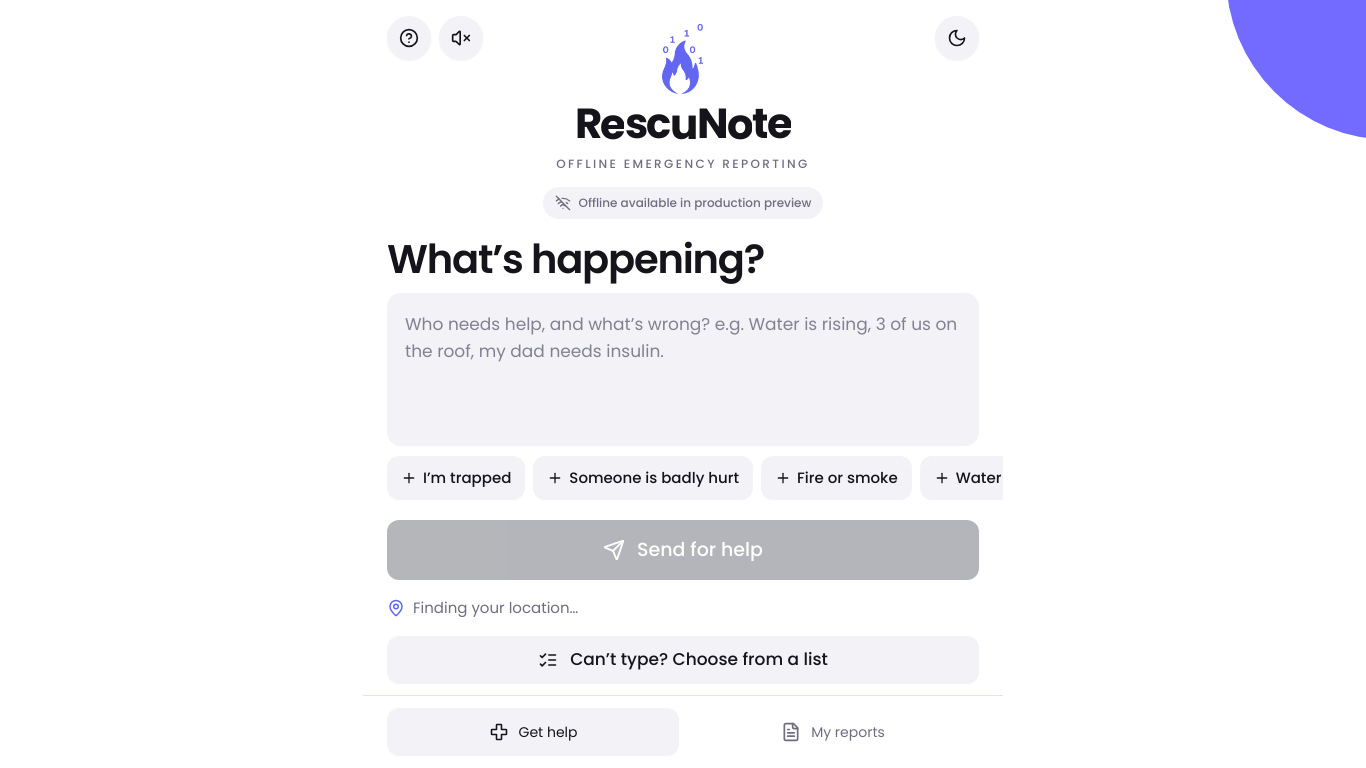
automatically loads the local model and analyzes with it
The width and height of the screenshot is (1366, 768).
Type "Example smoke report" into the text box named "What’s happening? Who needs help?".
click(683, 369); type("Example smoke report")  # box 387,293 -> 979,446
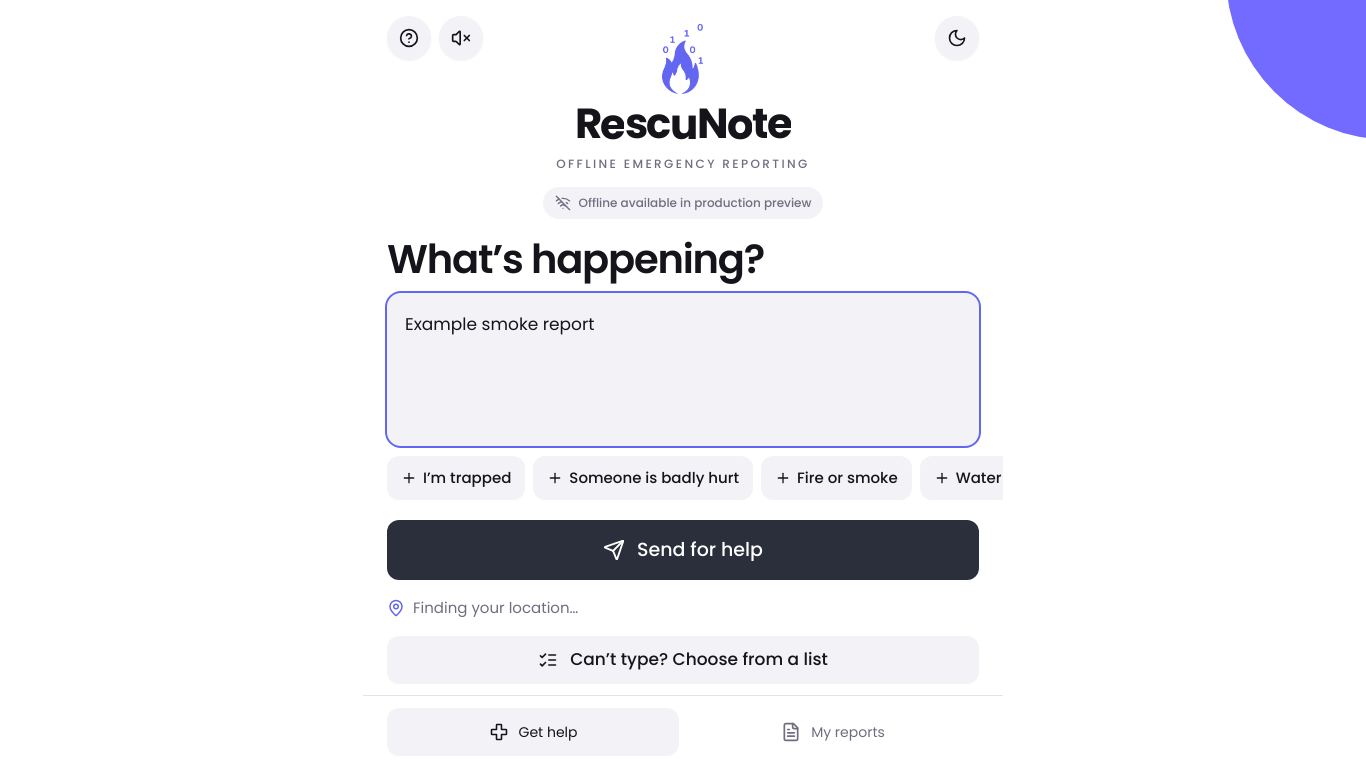
Click the button "Send for help".
click(683, 550)  # box 387,520 -> 979,580
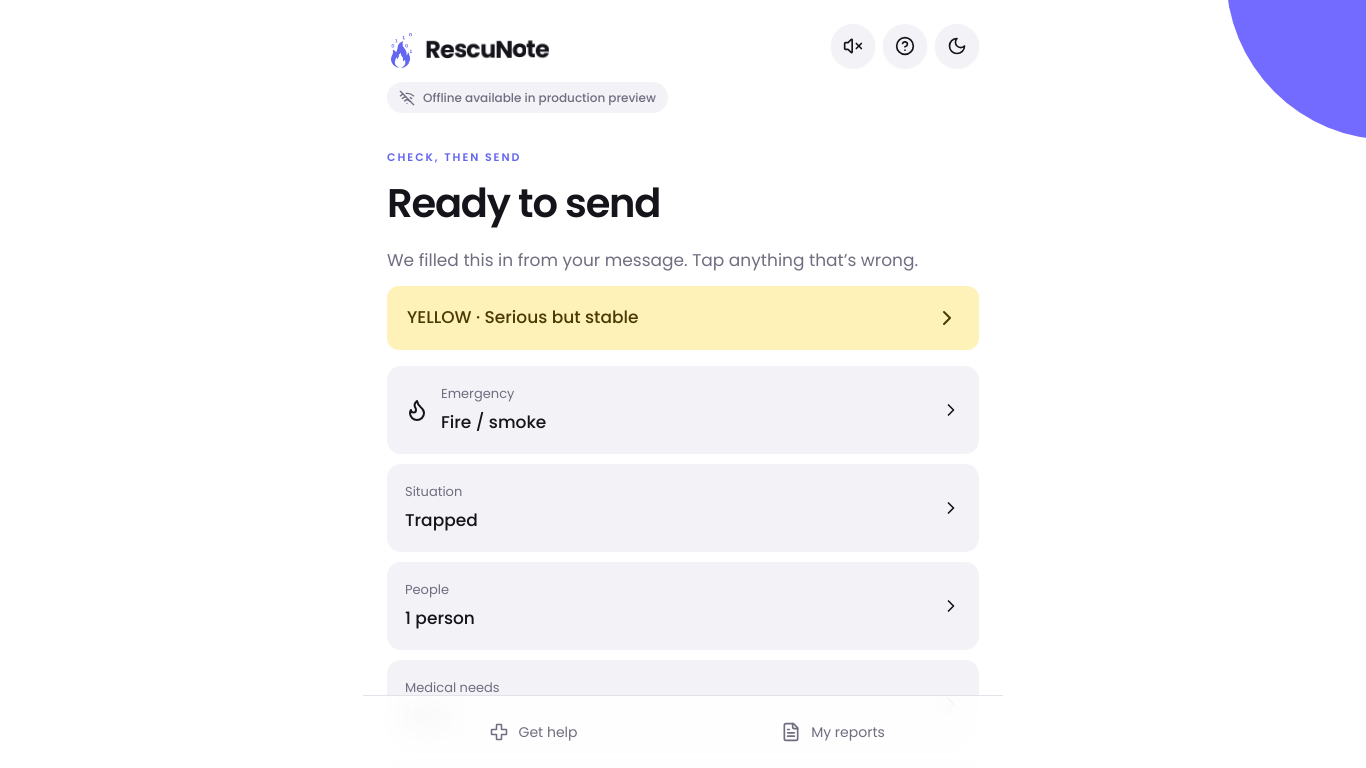
Check: the text "We filled this in from your message. Tap anything that’s wrong." is shown, box 387,247 -> 979,274
